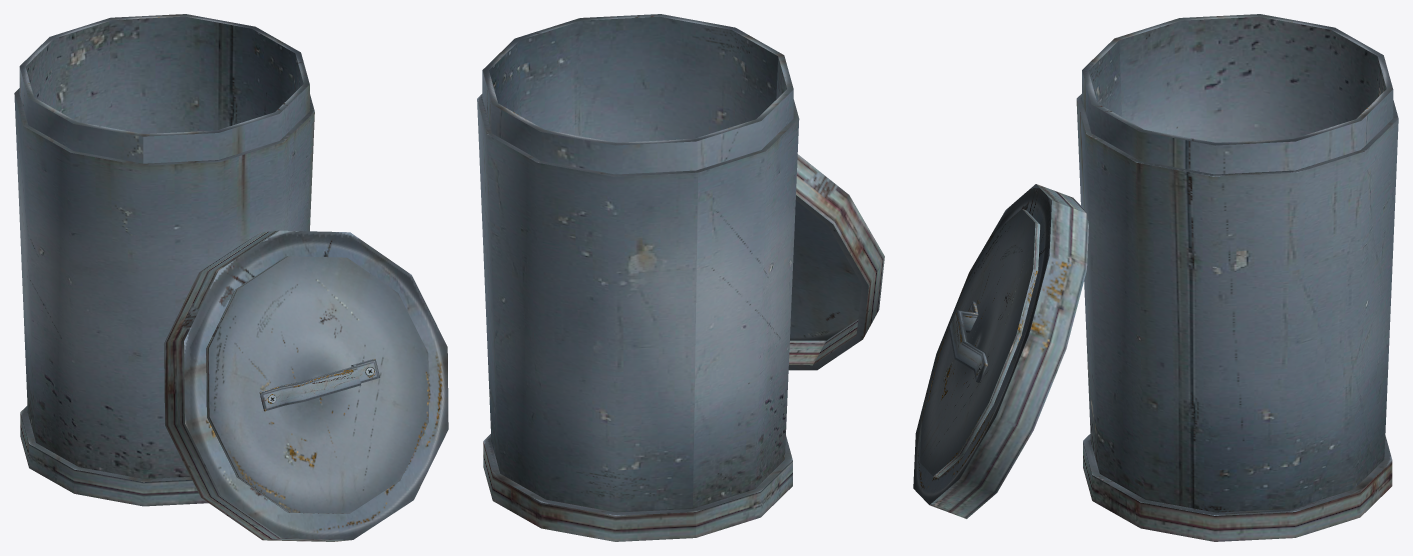
Rendered from metal_lid_and_rubbish_bin.fbx.
3 renders of one model, left to right at view 1: azimuth 30°, elevation 25°; view 2: azimuth 150°, elevation 25°; view 3: azimuth 270°, elevation 25°, orthographic. The views are drawn at different scales.
Parts seen in each view (by area): view 1: polySurfa3; view 2: polySurfa3; view 3: polySurfa3.
Part boxes in pixels (box(x1,y1,x2,y2)): polySurfa3: box(14, 14, 448, 541); polySurfa3: box(477, 14, 884, 541); polySurfa3: box(913, 14, 1398, 541).
Size of the model in its own units: 20.13 by 24.14 by 26.26.
